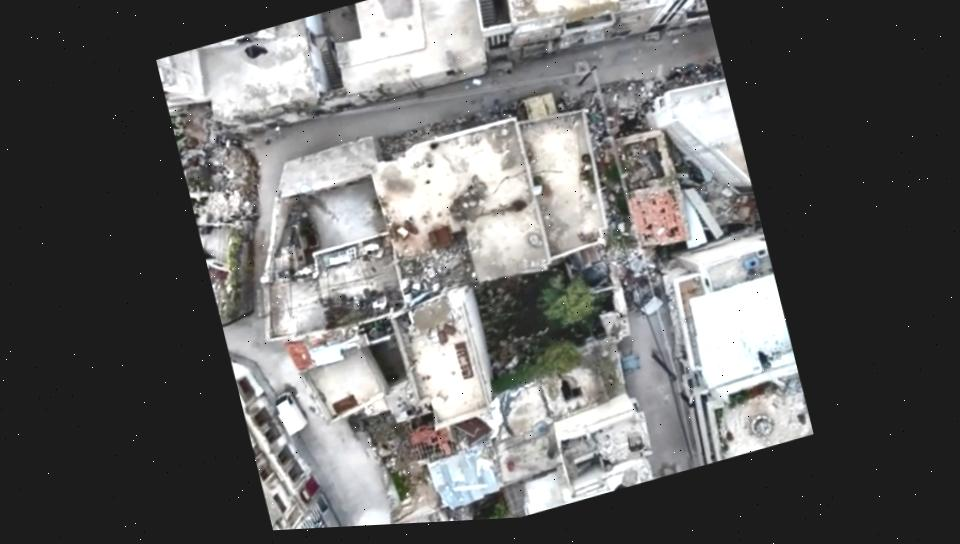kapali: (577, 64, 673, 341)
